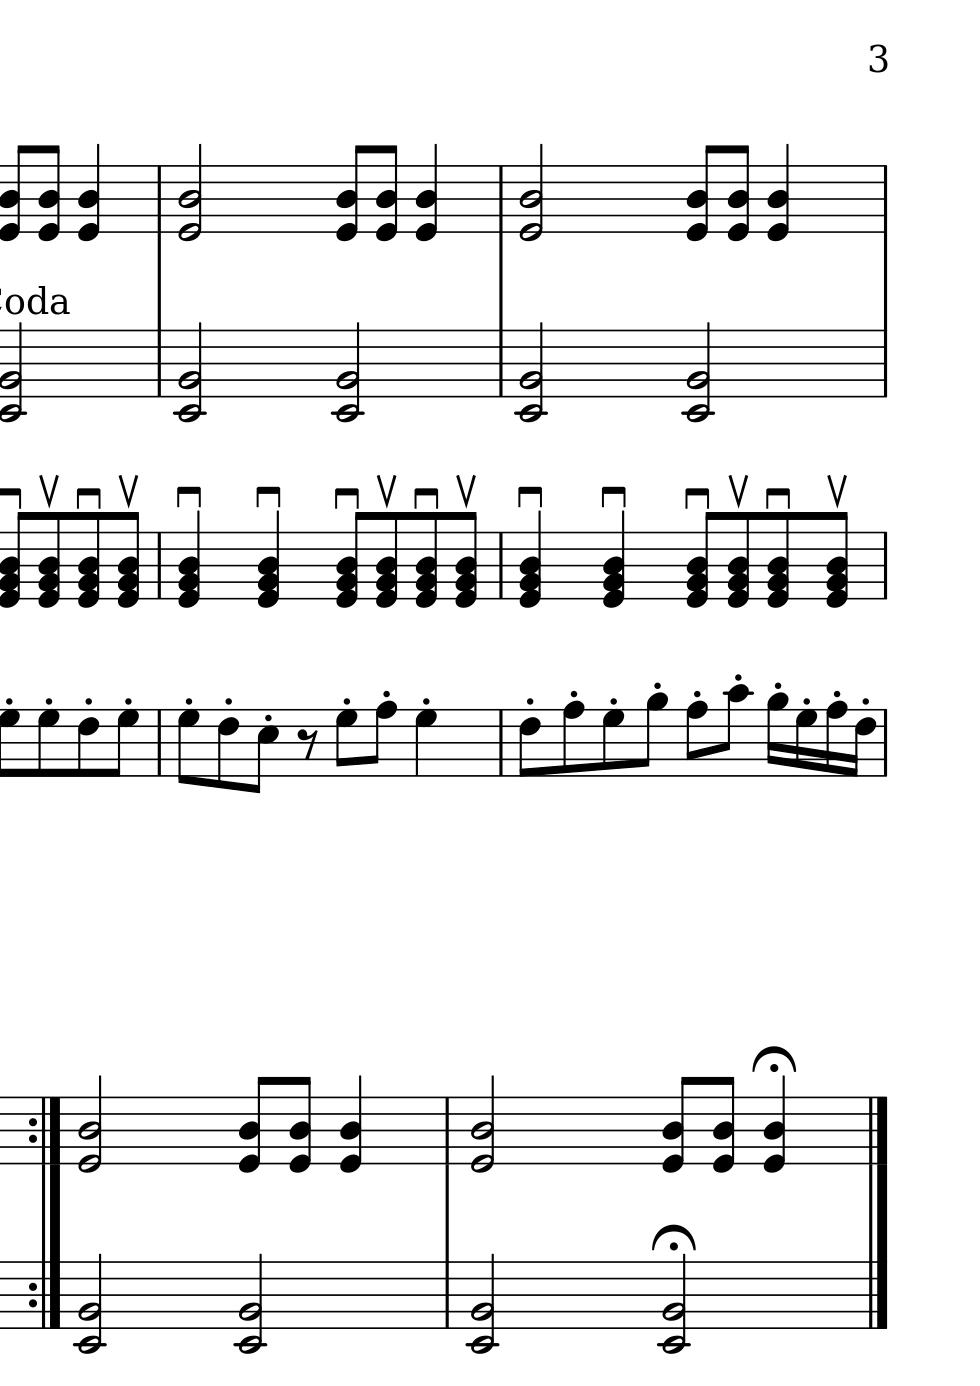16_6: (850, 708, 877, 777)
16_7: (797, 709, 818, 778)
16_8: (826, 700, 848, 777)
16_9: (767, 692, 790, 777)
2_-2_2: (70, 1251, 108, 1354), (171, 321, 208, 424), (331, 319, 368, 422), (514, 319, 552, 422), (679, 320, 716, 423), (654, 1250, 692, 1353), (465, 1251, 502, 1354), (233, 1251, 270, 1354)
2_0_4: (519, 143, 545, 242), (470, 1074, 496, 1173), (76, 1074, 103, 1173), (177, 144, 203, 242)
3: (867, 42, 889, 75)
4_0_4: (415, 142, 440, 240), (765, 142, 790, 240), (763, 1076, 788, 1174), (77, 144, 102, 242), (339, 1075, 364, 1173)
4_7: (415, 707, 438, 778)
4_th: (253, 505, 282, 612), (599, 506, 627, 611), (517, 504, 543, 612), (176, 505, 202, 612)
8_0_4: (660, 1076, 689, 1172), (238, 1076, 267, 1172), (335, 144, 364, 240), (686, 144, 715, 240), (1, 145, 29, 241), (37, 144, 62, 242), (711, 1075, 735, 1173), (374, 144, 398, 242), (725, 143, 749, 241), (287, 1077, 311, 1175)
8_10: (717, 683, 755, 777)
8_5: (252, 709, 281, 793)
8_6: (218, 709, 240, 791), (519, 708, 542, 777), (76, 707, 99, 778)
8_7: (111, 708, 141, 777), (176, 709, 202, 786), (37, 708, 62, 777), (335, 709, 358, 778), (602, 707, 625, 778), (1, 708, 22, 778)
8_8: (370, 701, 398, 778), (562, 700, 587, 778), (686, 701, 708, 778)
8_9: (636, 692, 668, 778)
8_th: (333, 508, 366, 613), (683, 507, 716, 611), (822, 508, 850, 610), (1, 507, 27, 609), (373, 510, 399, 611), (414, 511, 439, 611), (766, 511, 791, 611), (454, 509, 478, 610), (727, 512, 751, 610), (77, 512, 101, 611), (38, 510, 60, 611)
Down_bow: (680, 485, 712, 512), (515, 483, 545, 510), (173, 484, 204, 510), (252, 484, 283, 510), (597, 484, 628, 510), (72, 485, 104, 510), (762, 485, 793, 510), (331, 485, 362, 510), (410, 485, 441, 510), (1, 485, 23, 510)
Fermata_above: (649, 1222, 698, 1253), (751, 1043, 798, 1075)
Final_barline: (863, 1095, 891, 1164), (862, 1261, 890, 1329)
Rests8: (296, 726, 321, 761)
RightRepeatSign: (25, 1096, 64, 1165), (25, 1261, 64, 1329)
Single_barline: (150, 532, 167, 599), (151, 709, 167, 777), (493, 709, 509, 776), (439, 1098, 455, 1164), (439, 1262, 455, 1329), (151, 166, 167, 232), (877, 331, 893, 397), (151, 331, 167, 396), (877, 165, 892, 233), (878, 709, 893, 777), (493, 330, 508, 397), (877, 532, 892, 599), (493, 166, 508, 232), (494, 533, 508, 599)
Tremolo_bar: (116, 473, 140, 509), (727, 472, 750, 509), (455, 472, 477, 509), (38, 473, 60, 510), (825, 473, 847, 510), (374, 473, 397, 509)
